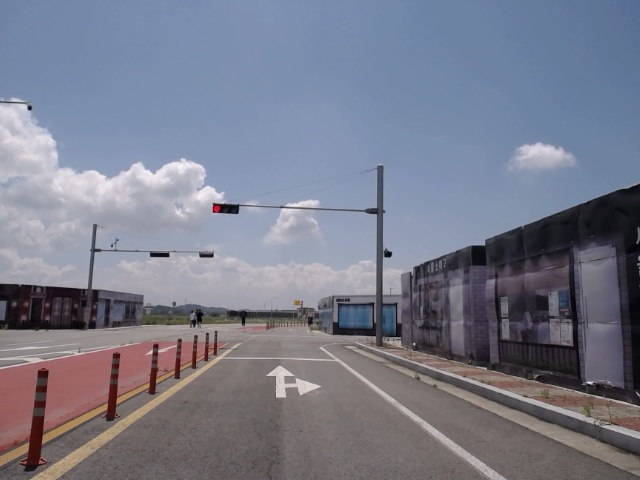red_3: (213, 203, 239, 215)
